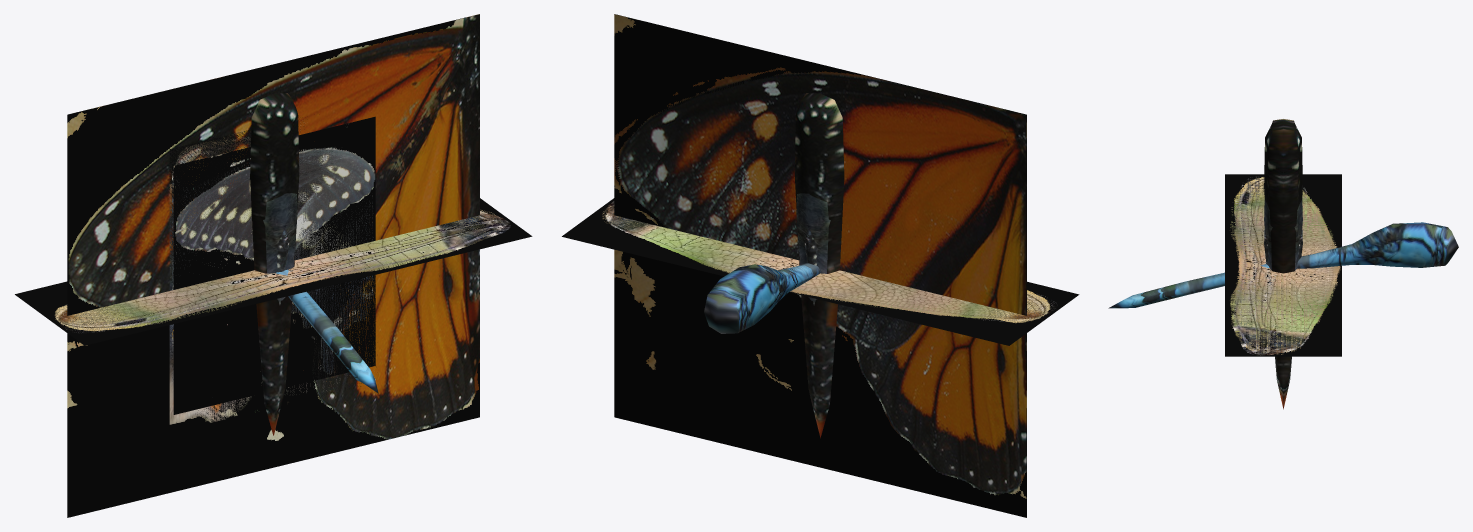
File: insects.fbx
The picture shows the model from 3 angles, left to right: view 1: azimuth 30°, elevation 25°; view 2: azimuth 150°, elevation 25°; view 3: azimuth 270°, elevation 25°; orthographic projection. The views are drawn at different scales.
Parts seen in each view (by area): view 1: butterfly_01_wing_left, butterfly_03_wing_left, butterfly_03_wing_right, dragonfly_wing_left, butterfly_01_body, dragonfly_wing_right, butterfly_02_wing_right, dragonfly_body, butterfly_02_body, butterfly_02_wing_left; view 2: butterfly_01_wing_right, dragonfly_wing_left, butterfly_01_body, dragonfly_body, dragonfly_wing_right, butterfly_02_body, butterfly_01_wing_left; view 3: dragonfly_wing_left, dragonfly_wing_right, dragonfly_body, butterfly_01_body, butterfly_02_body.
Part boxes in pixels (x1,y1,x2,y2): butterfly_01_wing_left: (67,14,479,517); butterfly_03_wing_left: (173,124,373,414); butterfly_03_wing_right: (172,116,375,399); dragonfly_wing_left: (15,198,532,345); butterfly_01_body: (250,93,299,435); dragonfly_wing_right: (15,198,531,344); butterfly_02_wing_right: (169,125,361,433); dragonfly_body: (276,269,378,393); butterfly_02_body: (263,193,297,300); butterfly_02_wing_left: (171,130,349,425); butterfly_01_wing_right: (614,14,1026,517); dragonfly_wing_left: (562,198,1079,345); butterfly_01_body: (794,93,844,438); dragonfly_body: (704,263,820,333); dragonfly_wing_right: (562,199,1078,345); butterfly_02_body: (796,193,830,300); butterfly_01_wing_left: (614,14,1026,517); dragonfly_wing_left: (1225,174,1341,356); dragonfly_wing_right: (1225,174,1341,356); dragonfly_body: (1108,222,1458,308); butterfly_01_body: (1264,119,1302,409); butterfly_02_body: (1264,199,1302,270).
Bounding box in the file's own units: 53.29 × 45.82 × 43.36.
